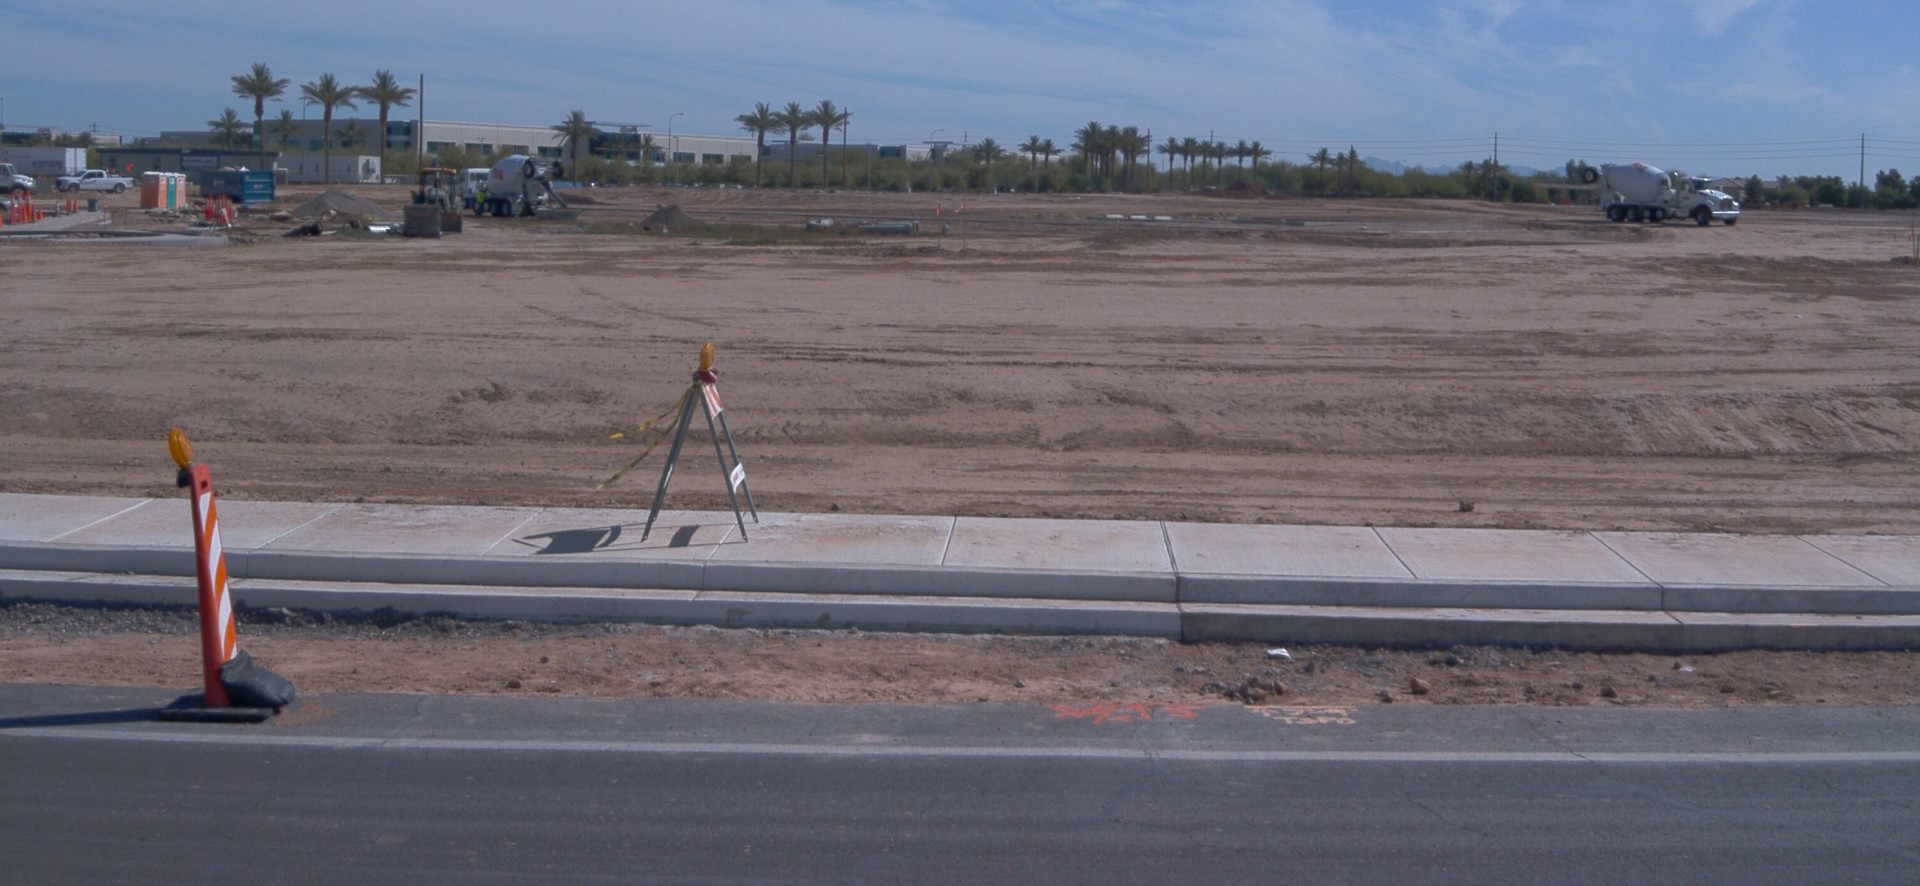TYPE_PEDESTRIAN: (475, 186, 488, 218)
TYPE_VEHICLE: (1575, 155, 1741, 226), (457, 155, 570, 221), (410, 167, 466, 233), (6, 142, 92, 182), (55, 170, 137, 199), (0, 166, 39, 202), (0, 195, 20, 214), (1201, 186, 1218, 191)
